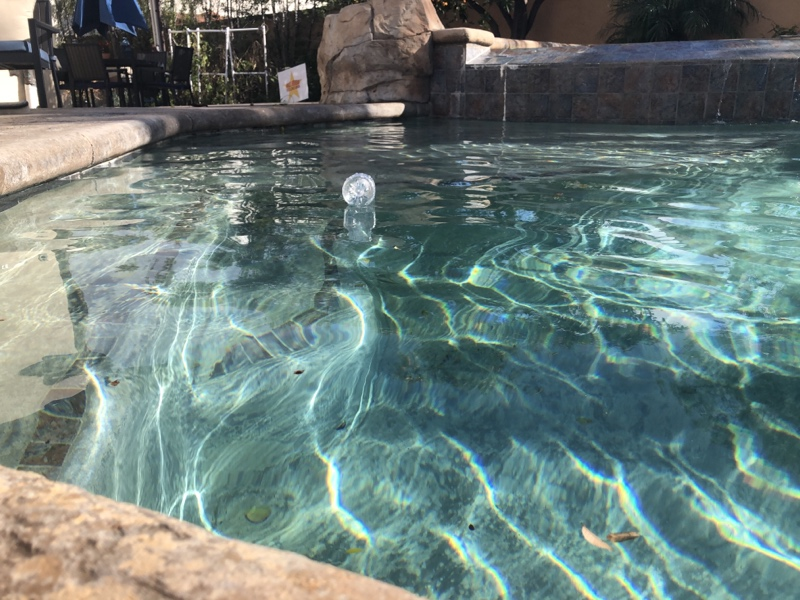Plastic Bottle: (340, 167, 378, 212)
